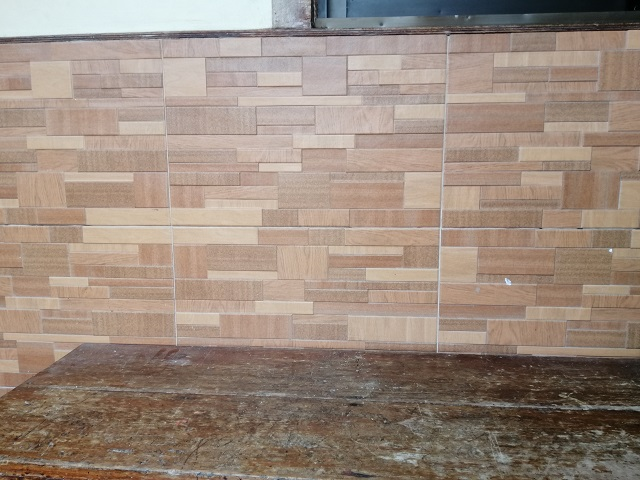wall: (1, 41, 640, 355)
